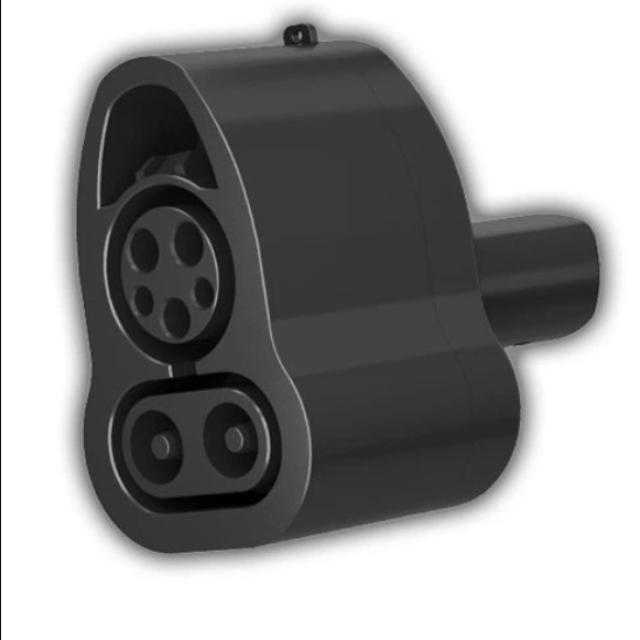CCS1: (60, 158, 321, 530)
